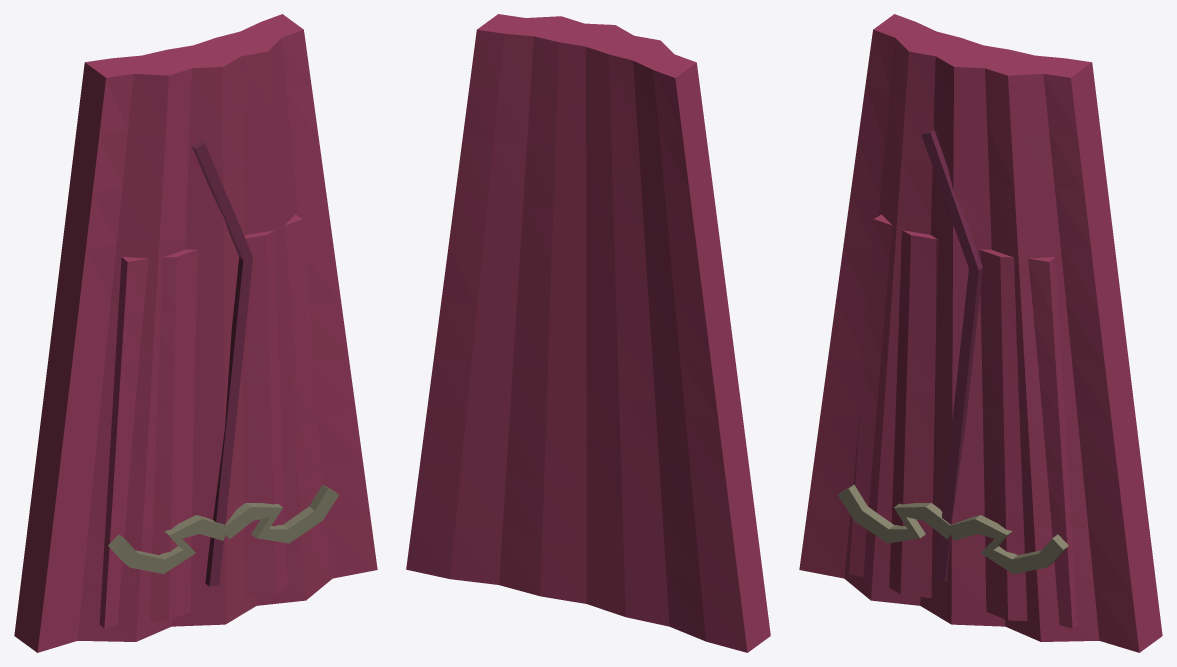
File: cloud_fall.obj
The picture shows the model from 3 angles, left to right: view 1: azimuth 30°, elevation 25°; view 2: azimuth 150°, elevation 25°; view 3: azimuth 330°, elevation 25°; orthographic projection.
Visible parts, largest first — view 1: cloud_fall_body, cloud_fall_body_edge, cloud_front_-1_front_skirt, cloud_front_1_front_skirt, cloud_fall_overlap, cloud_front_-1_front_skirt_edge, body_cloud_right, body_cloud_left, cloud_fall_overlap_edge, body_cloud_right_edge, body_cloud_left_edge; view 2: cloud_fall_body_back, cloud_fall_body_edge; view 3: cloud_fall_body, cloud_fall_body_edge, cloud_front_-1_front_skirt, cloud_front_1_front_skirt, cloud_fall_overlap, cloud_front_1_front_skirt_edge, body_cloud_left, body_cloud_right, cloud_fall_overlap_edge, body_cloud_left_edge, body_cloud_right_edge.
Part boxes in pixels (x1,y1,x2,y2): cloud_fall_body: (37, 29, 377, 652); cloud_fall_body_edge: (14, 14, 303, 652); cloud_front_-1_front_skirt: (104, 249, 198, 628); cloud_front_1_front_skirt: (239, 219, 327, 598); cloud_fall_overlap: (196, 143, 253, 586); cloud_front_-1_front_skirt_edge: (99, 249, 197, 627); body_cloud_right: (223, 489, 338, 543); body_cloud_left: (114, 519, 226, 574); cloud_fall_overlap_edge: (191, 140, 243, 586); body_cloud_right_edge: (225, 484, 337, 538); body_cloud_left_edge: (108, 515, 225, 566); cloud_fall_body_back: (406, 29, 747, 652); cloud_fall_body_edge: (477, 14, 770, 652); cloud_fall_body: (799, 29, 1139, 652); cloud_fall_body_edge: (873, 14, 1162, 652); cloud_front_-1_front_skirt: (849, 219, 938, 598); cloud_front_1_front_skirt: (978, 249, 1072, 628); cloud_fall_overlap: (921, 133, 978, 582); cloud_front_1_front_skirt_edge: (979, 249, 1077, 627); body_cloud_left: (838, 489, 953, 543); body_cloud_right: (950, 519, 1062, 574); cloud_fall_overlap_edge: (922, 130, 982, 581); body_cloud_left_edge: (839, 484, 950, 538); body_cloud_right_edge: (951, 515, 1068, 566).
Size of the model in its own units: 1.2 by 1.88 by 0.2628.
